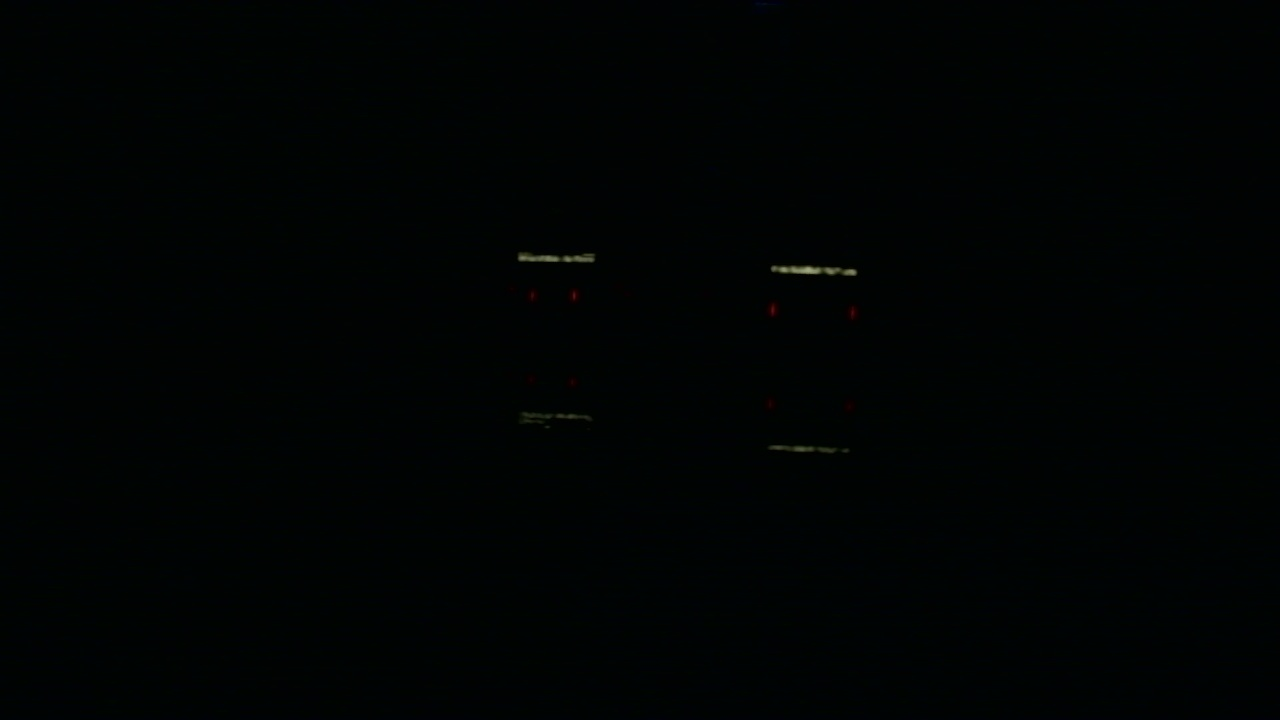lamp: (849, 302, 857, 320), (769, 302, 774, 317), (571, 289, 577, 298), (530, 290, 534, 299)
pair1: (531, 291, 576, 298)
pair2: (769, 302, 859, 321)
